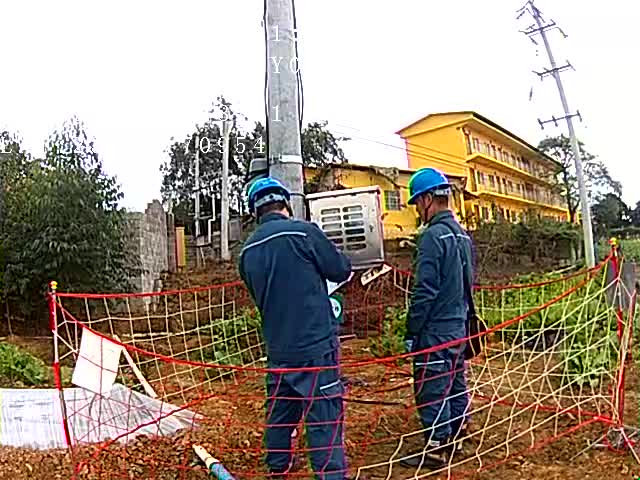halt: (409, 171, 457, 220), (250, 181, 297, 220)
inear: (419, 195, 438, 219)
